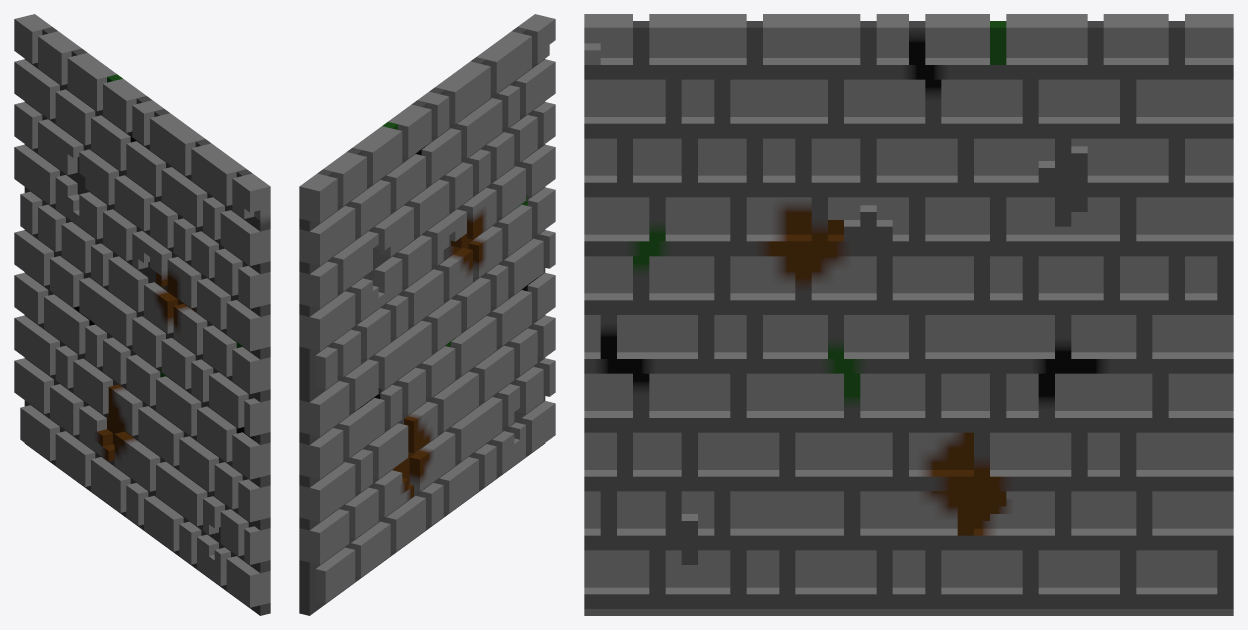
Rendered from Standard Wall.fbx.
3 renders of one model, left to right at view 1: azimuth 30°, elevation 25°; view 2: azimuth 150°, elevation 25°; view 3: azimuth 270°, elevation 25°, orthographic. The views are drawn at different scales.
Visible parts, largest first — view 1: StandardWall; view 2: StandardWall; view 3: StandardWall.
Boxes of the visible parts, <box> form: StandardWall: <box>14,14,270,615</box>; StandardWall: <box>299,14,555,615</box>; StandardWall: <box>584,14,1233,615</box>.
Bounding box in the file's own units: 10 × 200 × 200.
